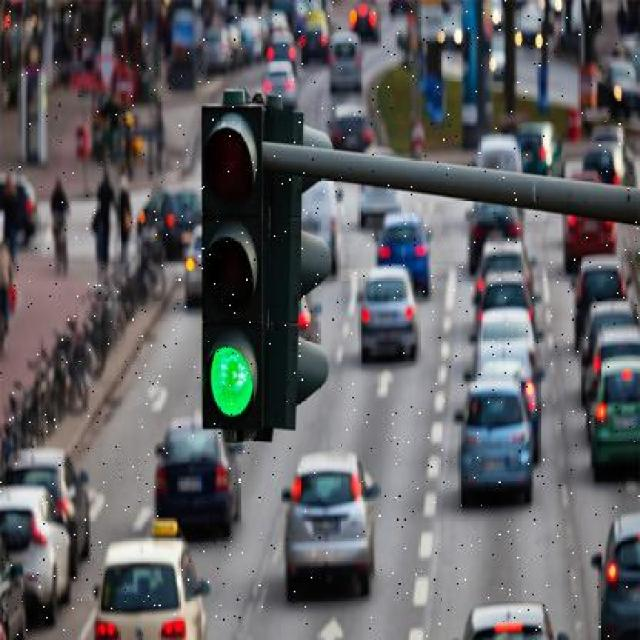green-light: (184, 88, 322, 459)
